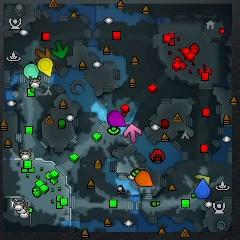p1: (195, 178, 211, 199)
p2: (23, 64, 39, 80)
p3: (108, 111, 126, 127)
p4: (37, 57, 53, 77)
p5: (135, 172, 153, 187)
x1: (124, 124, 141, 142)
x2: (193, 174, 211, 187)
x4: (51, 41, 69, 59)
x5: (35, 49, 50, 62)
